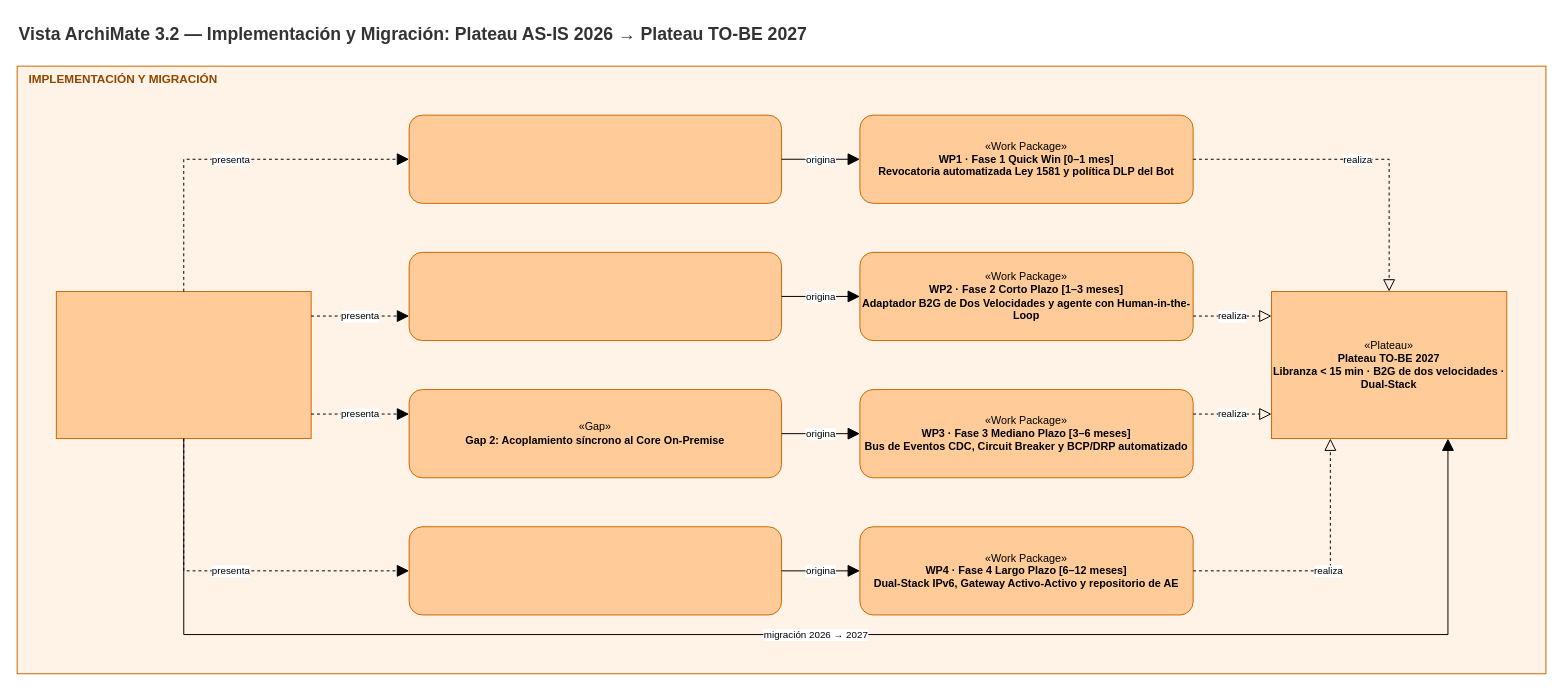
This 1563x691 diagram has some shape labels left out. The box of each missing label's shape, as (x1, y1, x2, y2) in pixels:
«Gap» Gap 1: Asimetría B2G con Pagadurías G3-G5: (408, 251, 782, 341)
«Gap» Gap 3: Brecha IPv6 MGGTI.LI.ST.14 y Repositorio MRAE PA.08: (408, 526, 782, 615)
«Gap» Gap 4: Revocatoria automatizada Ley 1581 y DLP: (408, 114, 782, 203)
«Plateau» Plateau AS-IS 2026 Originación 3–5 días · integración B2G asimétrica: (55, 291, 311, 439)
